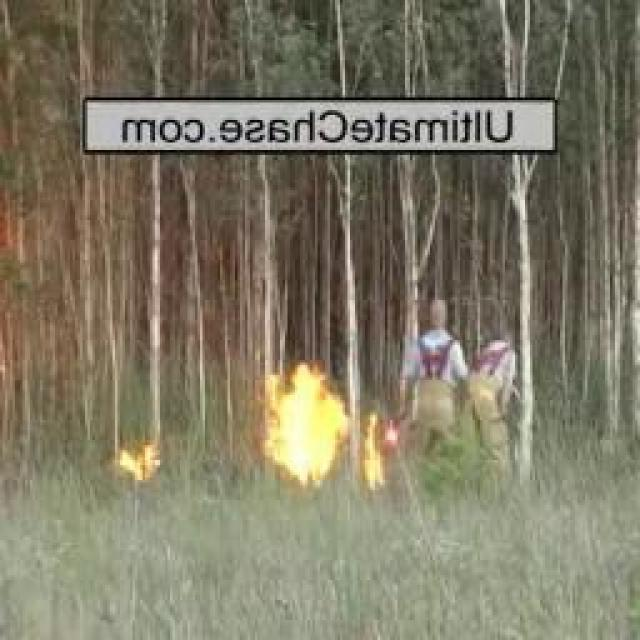Fire: (260, 357, 348, 495), (360, 420, 396, 487), (115, 445, 163, 487)
